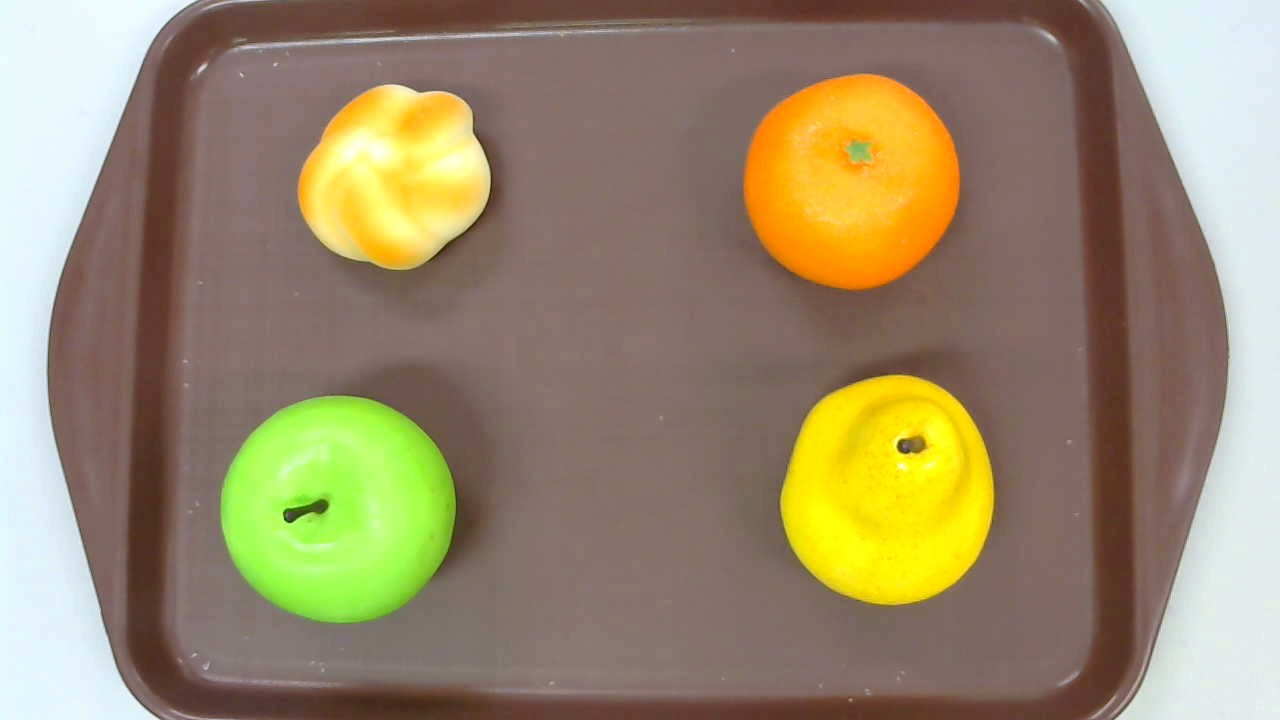green apple: (219, 394, 456, 622)
orange: (744, 72, 959, 292)
twist bread: (298, 84, 491, 273)
yellow pear: (780, 374, 994, 607)
